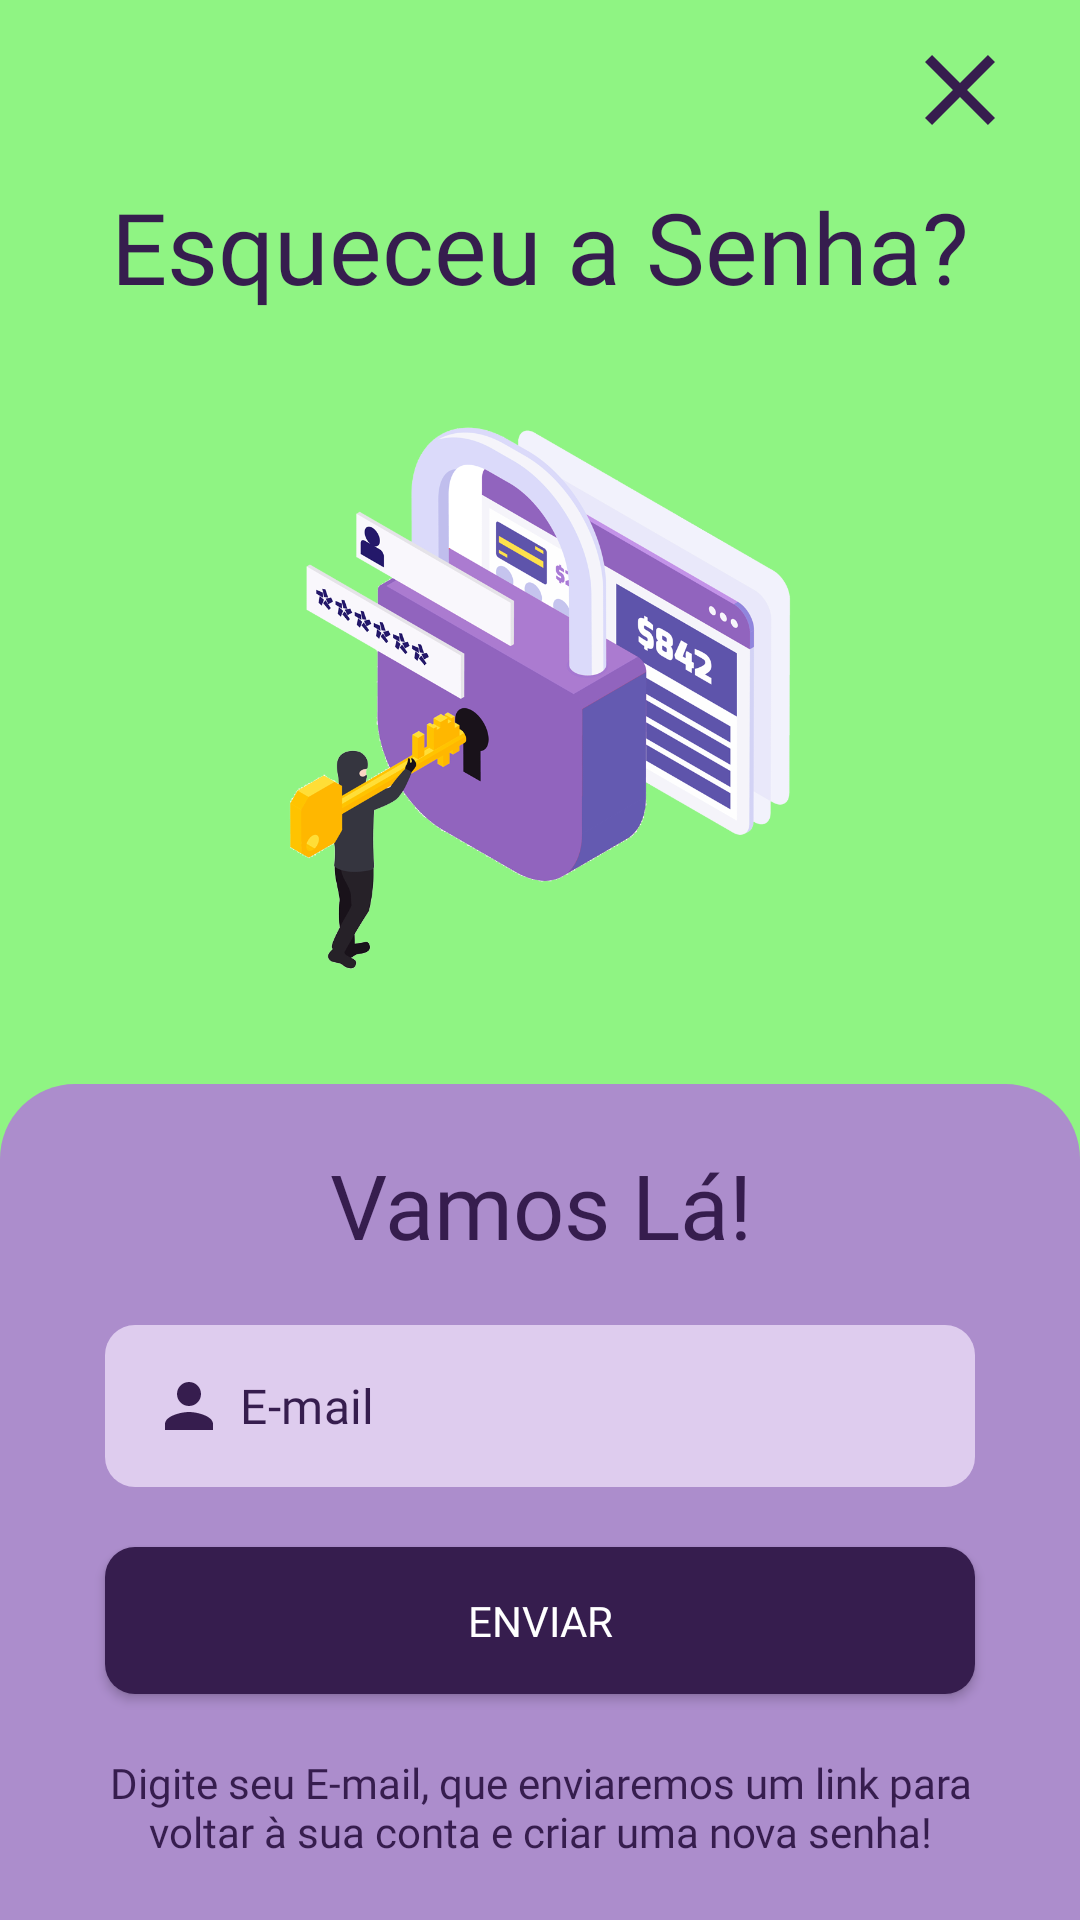

Screen size 1080*1920. Icon name, then its center in pixels as [x,y]:
close: [960,90]
